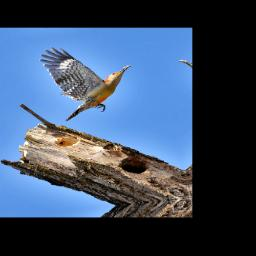Woodpecker: (35, 39, 145, 124)
